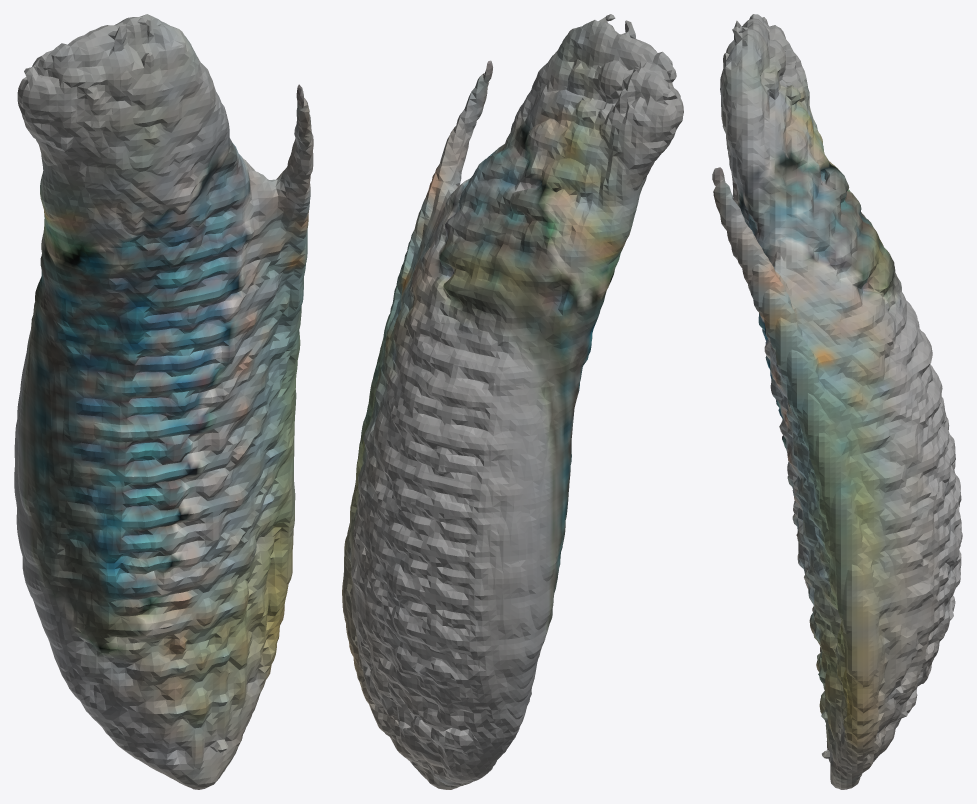
Rendered from apistogramma-borellii.glb.
3 renders of one model, left to right at view 1: azimuth 30°, elevation 25°; view 2: azimuth 150°, elevation 25°; view 3: azimuth 270°, elevation 25°, orthographic. The views are drawn at different scales.
Visible parts, largest first — view 1: world; view 2: world; view 3: world.
Part boxes in pixels (x1=…): world: x1=14, y1=14, x2=313, y2=789; world: x1=342, y1=14, x2=683, y2=789; world: x1=712, y1=14, x2=962, y2=789.
Bounding box in the file's own units: 0.3868 × 0.9782 × 0.3117.
